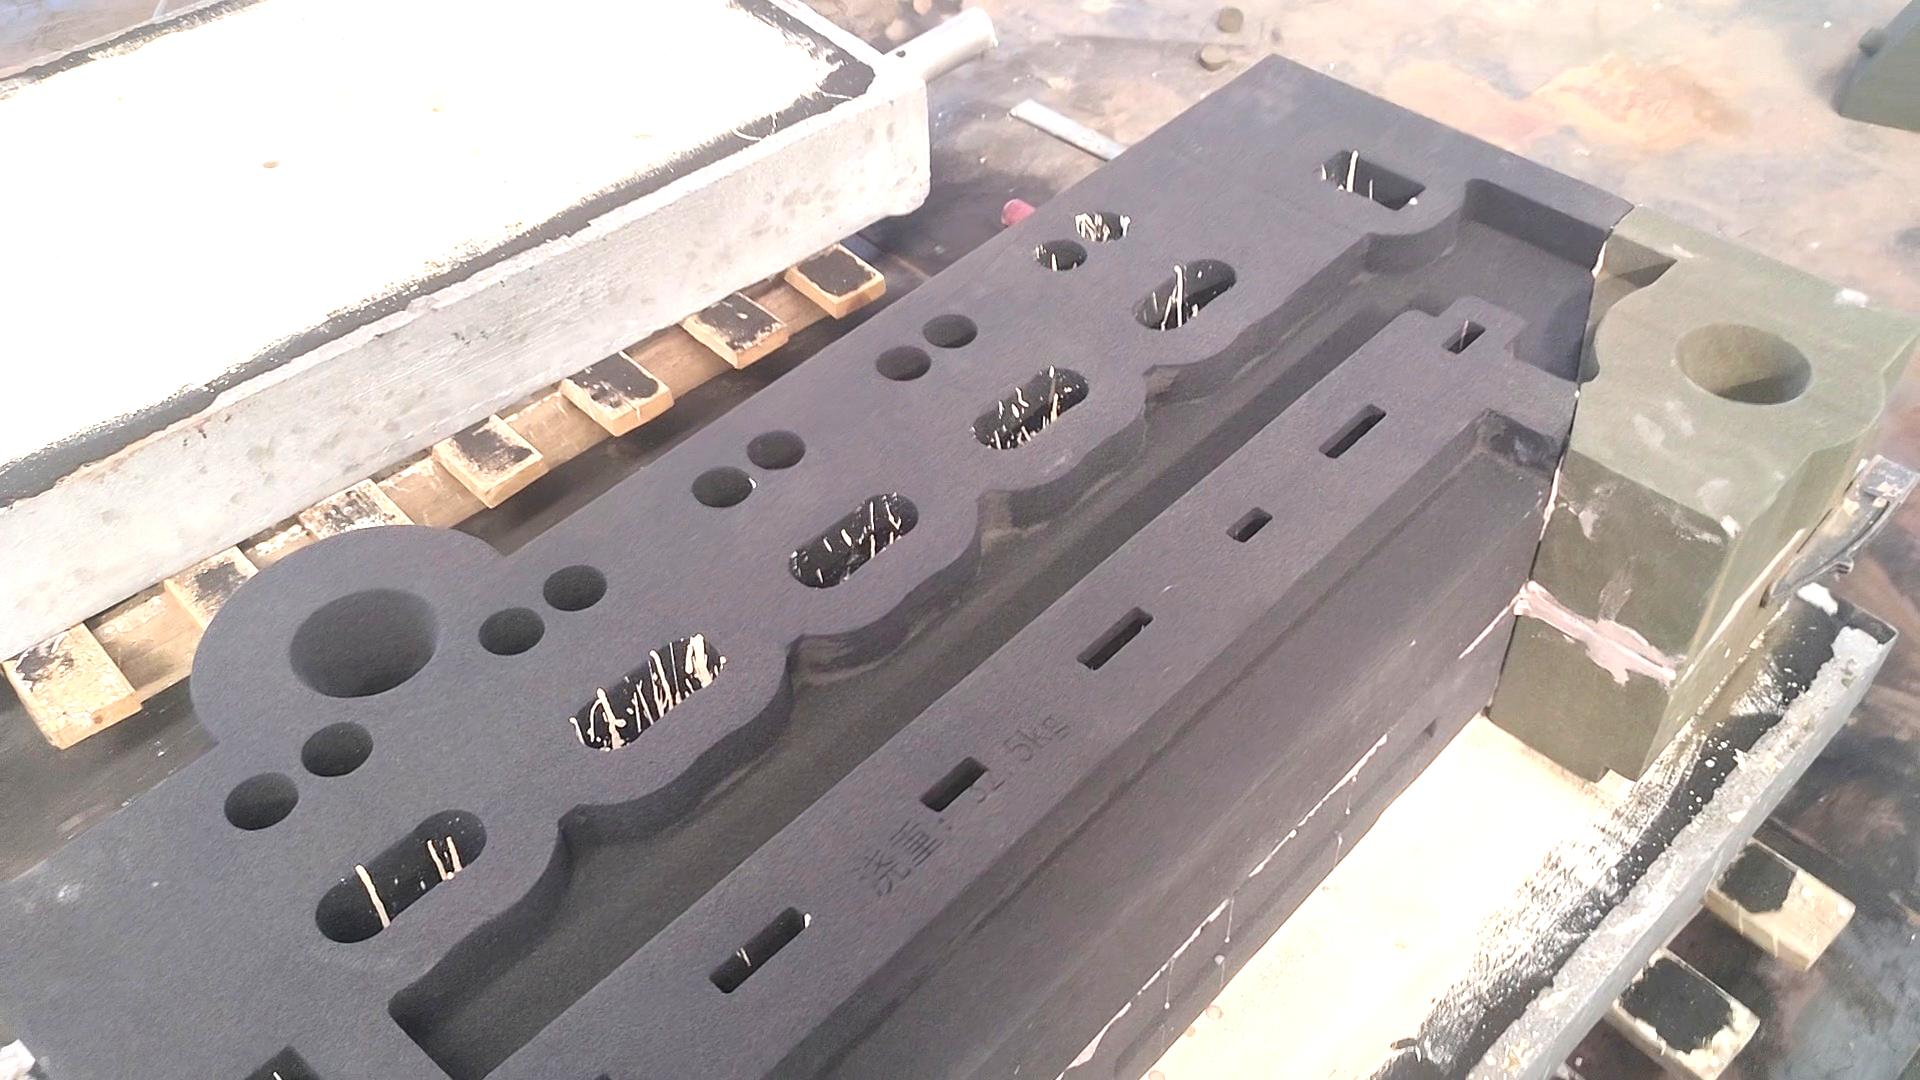pouring hole: (287, 589, 439, 699), (1673, 324, 1811, 404)
